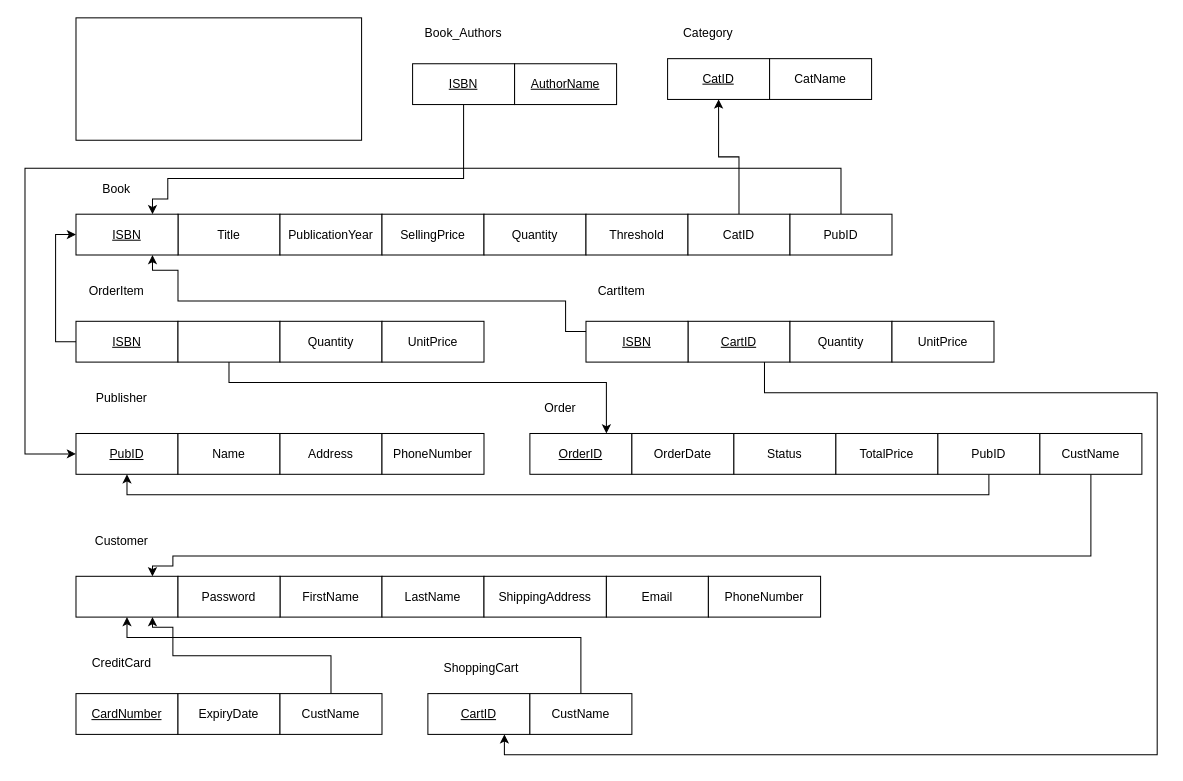
Some shapes in this 1183 by 781 pixel diagram are drawn without their labels. Here are the shapes that lost their labels. From the top down, the box of each, then its label:
(75, 17, 362, 140): Relational Schema
(177, 320, 280, 362): OrderNumber
(75, 575, 178, 617): Username
